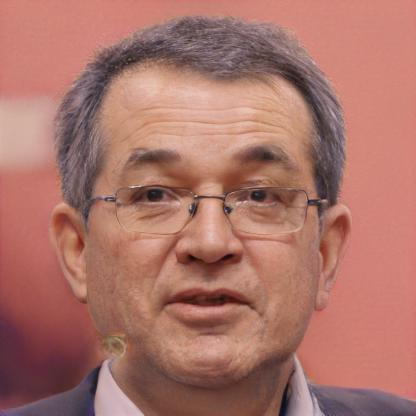glasses: (90, 181, 319, 242)
